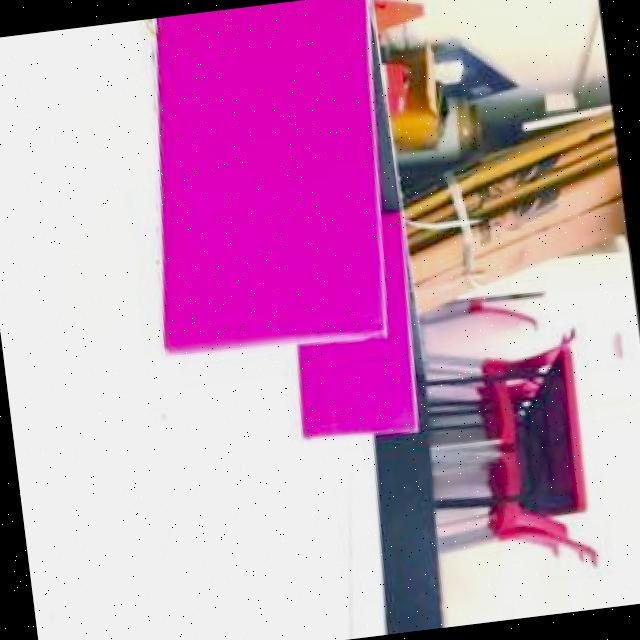xparking: (138, 0, 384, 361), (294, 340, 416, 442)
